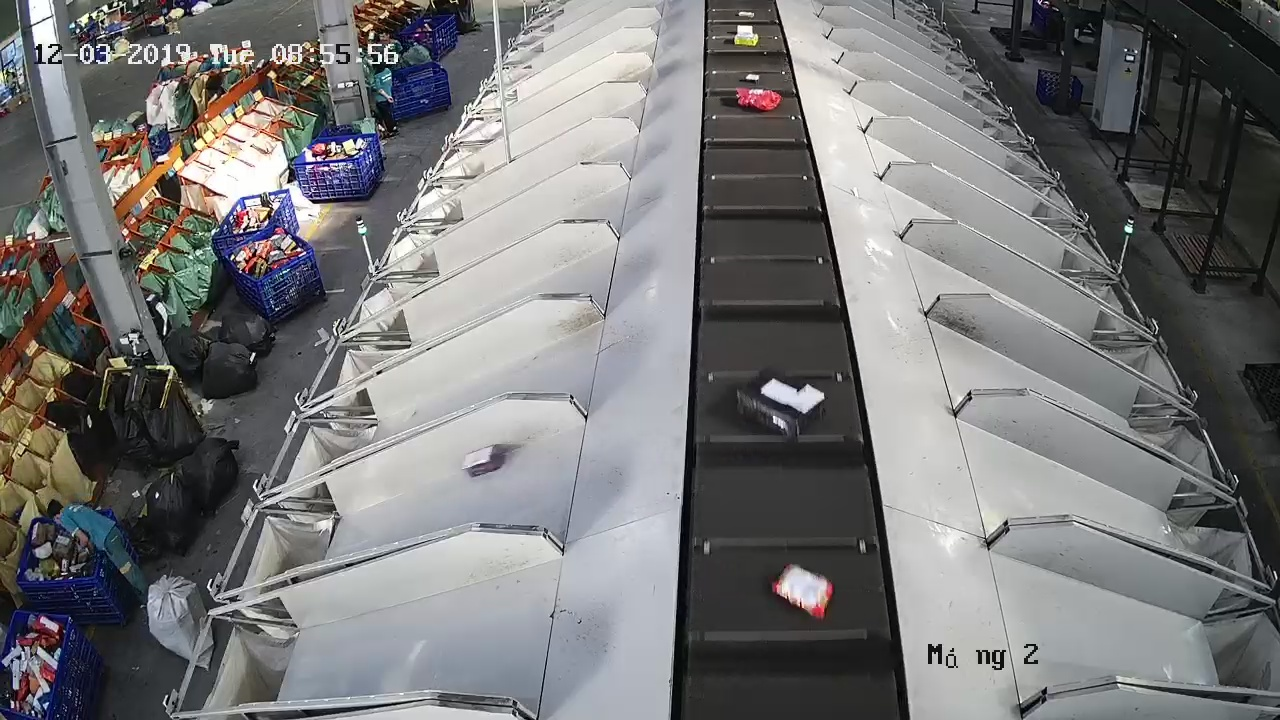parcel: (735, 367, 826, 444), (771, 561, 835, 622), (460, 443, 506, 478)
